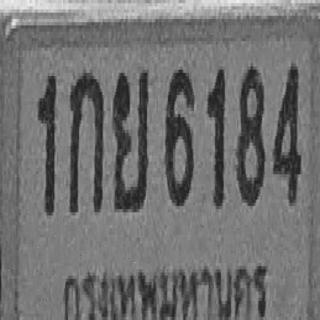A01: (69, 70, 104, 212)
A34: (112, 68, 148, 211)
N01: (206, 65, 225, 208), (37, 73, 56, 216)
N04: (272, 62, 301, 204)
N06: (165, 66, 194, 206)
N08: (236, 64, 264, 206)
P04: (59, 257, 269, 320)
